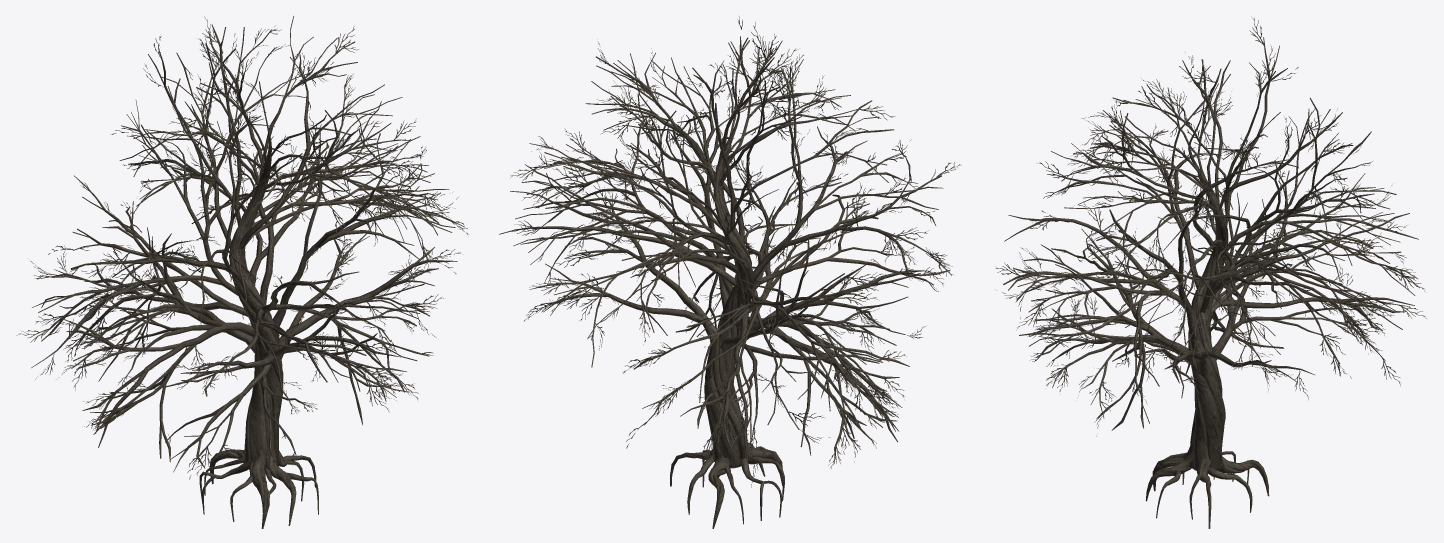
The model's file is Tree3-3-Empty.fbx.
3 views of the same model, side by side, from view 1: azimuth 30°, elevation 25°; view 2: azimuth 150°, elevation 25°; view 3: azimuth 270°, elevation 25° (orthographic). The views are drawn at different scales.
Visible parts, largest first — view 1: Tree3-3-Empty_LOD0; view 2: Tree3-3-Empty_LOD0; view 3: Tree3-3-Empty_LOD0.
Part boxes in pixels (bbox=[...]): Tree3-3-Empty_LOD0: bbox=[16, 16, 468, 528]; Tree3-3-Empty_LOD0: bbox=[499, 16, 961, 528]; Tree3-3-Empty_LOD0: bbox=[995, 17, 1426, 528].
Size of what is drawn, in the model's own units: 12.62 by 12.35 by 14.22.
